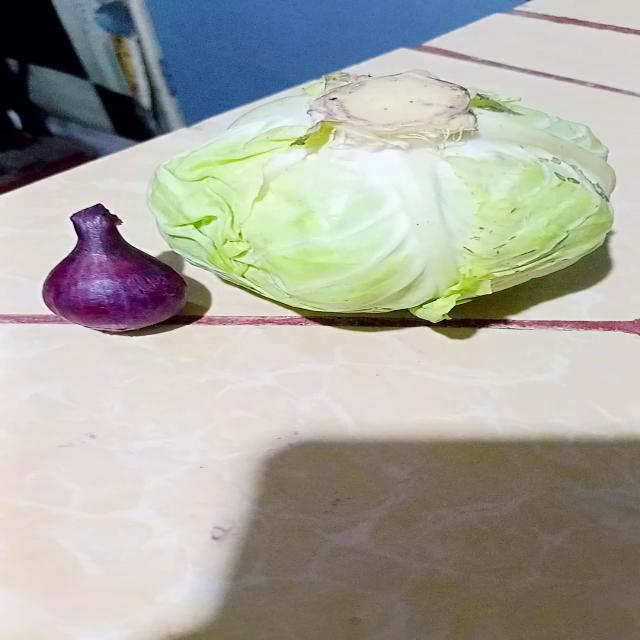cabbage: (150, 74, 617, 324)
onion: (42, 203, 187, 333)
